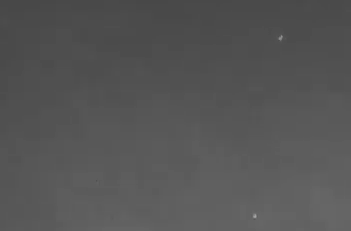Target: (253, 36, 282, 217)
